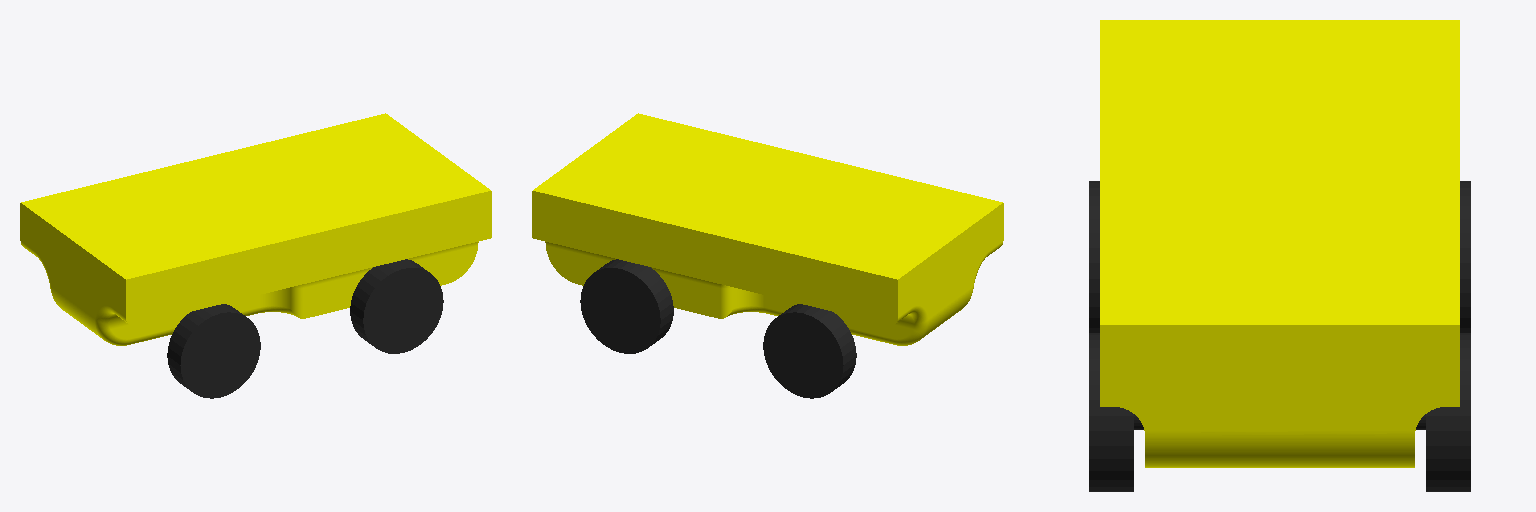
The robot description file, URDF, robot "vitirover":
<?xml version="1.0" ?>
<robot name="vitirover" xmlns:xacro="http://www.ros.org/wiki/xacro">
  <!-- ros_control plugin -->
  <gazebo>
    <plugin name="gazebo_ros_control" filename="libgazebo_ros_control.so">
      <robotNamespace>/vitirover</robotNamespace>
    </plugin>
  </gazebo>
  
  <!-- Wheels -->
  <!-- in kg-->
  <!-- Defining the colors used in this robot -->
  <material name="Black">
    <color rgba="0.0 0.0 0.0 1.0"/>
  </material>
  <material name="Red">
    <color rgba="0.8 0.0 0.0 1.0"/>
  </material>
  <material name="White">
    <color rgba="1.0 1.0 1.0 1.0"/>
  </material>
  <material name="Blue">
    <color rgba="0.0 0.0 0.8 1.0"/>
  </material>
  <material name="DarkGrey">
  <color rgba="0.2 0.2 0.2 1.0"/>
  </material>
  <material name="Yellow">
    <color rgba="1.0 1.0 0.0 1.0"/>
  </material>

  <!-- PROPERTY LIST -->
  <!--All units in m-kg-s-radians unit system -->
  <!-- Wheels -->
  <!-- in kg-->
  <!-- BASE-FOOTPRINT -->
  <!-- base_footprint is a fictitious link(frame) that is on the ground right below base_link origin -->
  <link name="base_footprint"/>
  <gazebo reference="base_footprint">
    <material>Gazebo/DarkGrey</material>
  </gazebo>
  <joint name="base_footprint_joint" type="fixed">
    <origin rpy="0 0 0" xyz="0 0 0.1"/>
    <parent link="base_footprint"/>
    <child link="base_link"/>
  </joint>
  <!-- BASE-LINK -->
  <!--Actual body/chassis of the robot-->
  <link name="base_link">
    <inertial>
      <mass value="25"/>
      <origin  rpy="1.57079632679 3.141592653599265359 1.57079632679" xyz="0 0 0.05"/>
      <!--The 3x3 rotational inertia matrix. -->
      <inertia ixx="1.1927083" ixy="0" ixz="0" iyy="1.427083" iyz="0" izz="0.27604167"/>
    </inertial>
    <visual>
      <origin  rpy="3.14159265359 0.0 4.71238898038" xyz="0 0 0.2"/>
      <geometry>
        <mesh filename="package://mobile_robot/meshes/chassis.stl" scale="10 10 10"/>
      </geometry>
      <material name="Yellow"/>
    </visual>
    <collision>
      <origin  rpy="3.14159265359 0.0 4.71238898038" xyz="0 0 0.15"/>
      <geometry>
        <box size="0.4 0.8 0.1"/>
      </geometry>
    </collision>
  </link>

  <gazebo reference="base_link">
    <material>Gazebo/Yellow</material> <!-- Change material to "Gazebo/Yellow" -->
    <turnGravityOff>false</turnGravityOff>
  </gazebo>

  <!-- FRONT -->
  <!-- Right -->
  <link name="front_right_wheel">
    <inertial>
      <mass value="2.5"/>
      <origin rpy="1.57079632679 0  0 " xyz="0 0 0"/>
      <inertia ixx="0.00536083" ixy="0" ixz="0" iyy="0.00536083" iyz="0" izz="0.009680"/>
    </inertial>
    
    <visual>
      <origin rpy="1.57079632679 0  0 " xyz="0 0 0"/>
      <geometry>
        <cylinder length="0.05" radius="0.088"/>
      </geometry>
      <material name="DarkGrey"/>
    </visual>

    <collision>
      <origin rpy="1.57079632679 0 0 " xyz="0 0 0"/>
      <geometry>
        <cylinder length="0.05" radius="0.088"/>
      </geometry>
      <surface>
        <friction>
          <ode>
            <mu>1.0</mu>
            <mu2>1.0</mu2>
          </ode>
        </friction>
        <contact>
          <ode>
            <soft_cfm>0.01</soft_cfm>   <!-- Soft constraint force mixing -->
            <soft_erp>0.8</soft_erp>     <!-- Error reduction parameter -->
            <kp>1000000.0</kp>           <!-- Contact stiffness -->
            <kd>1.0</kd>                 <!-- Contact damping -->
          </ode>
        </contact>
      </surface>
    </collision>
  </link>

  <gazebo reference="front_right_wheel">
    <mu1 value="1.0"/>
    <mu2 value="1.0"/>
    <kp value="10000000.0"/>
    <kd value="1000.0"/>
    <fdir1 value="1 0 0"/>
    <material>Gazebo/DarkGrey</material>
    <turnGravityOff>false</turnGravityOff>
  </gazebo>

  <joint name="front_right_wheel_joint" type="continuous">
    <parent link="base_link"/>
    <child link="front_right_wheel"/>
    <origin rpy="0 0 0" xyz="0.2 -0.1875 0.0"/>
    <axis rpy="0 0 0" xyz="0 1 0"/>
    <limit effort="100" velocity="100"/>
    <joint_properties  damping="0.3" friction="0.1"/>
  </joint>

  <!-- Transmission is important to link the joints and the controller -->
  <transmission name="front_right_wheel_joint_trans">
    <type>transmission_interface/SimpleTransmission</type>
    <joint name="front_right_wheel_joint">
      <hardwareInterface>hardware_interface/VelocityJointInterface</hardwareInterface>
    </joint>
    <actuator name="front_right_wheel_joint_motor">
      <hardwareInterface>hardware_interface/VelocityJointInterface</hardwareInterface>
      <mechanicalReduction>1</mechanicalReduction>
    </actuator>
  </transmission>


  <!-- Left -->
  <link name="front_left_wheel">
    <inertial>
      <mass value="2.5"/>
      <origin rpy="1.57079632679 0  0 " xyz="0 0 0"/>
      <inertia ixx="0.00536083" ixy="0" ixz="0" iyy="0.00536083" iyz="0" izz="0.009680"/>
    </inertial>
    
    <visual>
      <origin rpy="1.57079632679 0  0 " xyz="0 0 0"/>
      <geometry>
        <cylinder length="0.05" radius="0.088"/>
      </geometry>
      <material name="DarkGrey"/>
    </visual>

    <collision>
      <origin rpy="1.57079632679 0 0 " xyz="0 0 0"/>
      <geometry>
        <cylinder length="0.05" radius="0.088"/>
      </geometry>
      <surface>
        <friction>
          <ode>
            <mu>1.0</mu>
            <mu2>1.0</mu2>
          </ode>
        </friction>
        <contact>
          <ode>
            <soft_cfm>0.01</soft_cfm>   <!-- Soft constraint force mixing -->
            <soft_erp>0.8</soft_erp>     <!-- Error reduction parameter -->
            <kp>1000000.0</kp>           <!-- Contact stiffness -->
            <kd>1.0</kd>                 <!-- Contact damping -->
          </ode>
        </contact>
      </surface>
    </collision>
  </link>

  <gazebo reference="front_left_wheel">
    <mu1 value="1.0"/>
    <mu2 value="1.0"/>
    <kp value="10000000.0"/>
    <kd value="1000.0"/>
    <fdir1 value="1 0 0"/>
    <material>Gazebo/DarkGrey</material>
    <turnGravityOff>false</turnGravityOff>
  </gazebo>

  <joint name="front_left_wheel_joint" type="continuous">
    <parent link="base_link"/>
    <child link="front_left_wheel"/>
    <origin rpy="0 0 0" xyz="0.2 0.1875 0.0"/>
    <axis rpy="0 0 0" xyz="0 1 0"/>
    <limit effort="100" velocity="100"/>
    <joint_properties  damping="0.3" friction="0.1"/>
  </joint>
  <!-- Transmission is important to link the joints and the controller -->
  <transmission name="front_left_wheel_joint_trans">
    <type>transmission_interface/SimpleTransmission</type>
    <joint name="front_left_wheel_joint">
      <hardwareInterface>hardware_interface/VelocityJointInterface</hardwareInterface>
    </joint>
    <actuator name="front_left_wheel_joint_motor">
      <hardwareInterface>hardware_interface/VelocityJointInterface</hardwareInterface>
      <mechanicalReduction>1</mechanicalReduction>
    </actuator>
  </transmission>

  <!-- REAR -->
  <!-- Right -->
  <link name="rear_right_wheel">
    <inertial>
      <mass value="2.5"/>
      <origin rpy="1.57079632679 0  0 " xyz="0 0 0"/>
      <inertia ixx="0.00536083" ixy="0" ixz="0" iyy="0.00536083" iyz="0" izz="0.009680"/>
    </inertial>
    
    <visual>
      <origin rpy="1.57079632679 0  0 " xyz="0 0 0"/>
      <geometry>
        <cylinder length="0.05" radius="0.088"/>
      </geometry>
      <material name="DarkGrey"/>
    </visual>

    <collision>
      <origin rpy="1.57079632679 0 0 " xyz="0 0 0"/>
      <geometry>
        <cylinder length="0.05" radius="0.088"/>
      </geometry>
      <surface>
        <friction>
          <ode>
            <mu>1.0</mu>
            <mu2>1.0</mu2>
          </ode>
        </friction>
        <contact>
          <ode>
            <soft_cfm>0.01</soft_cfm>   <!-- Soft constraint force mixing -->
            <soft_erp>0.8</soft_erp>     <!-- Error reduction parameter -->
            <kp>1000000.0</kp>           <!-- Contact stiffness -->
            <kd>1.0</kd>                 <!-- Contact damping -->
          </ode>
        </contact>
      </surface>
    </collision>
  </link>

  <gazebo reference="rear_right_wheel">
    <mu1 value="1.0"/>
    <mu2 value="1.0"/>
    <kp value="10000000.0"/>
    <kd value="1000.0"/>
    <fdir1 value="1 0 0"/>
    <material>Gazebo/DarkGrey</material>
    <turnGravityOff>false</turnGravityOff>
  </gazebo>

  <!-- Left -->
  <link name="rear_left_wheel">
    <inertial>
      <mass value="2.5"/>
      <origin rpy="1.57079632679 0  0 " xyz="0 0 0"/>
      <inertia ixx="0.00536083" ixy="0" ixz="0" iyy="0.00536083" iyz="0" izz="0.009680"/>
    </inertial>
    
    <visual>
      <origin rpy="1.57079632679 0  0 " xyz="0 0 0"/>
      <geometry>
        <cylinder length="0.05" radius="0.088"/>
      </geometry>
      <material name="DarkGrey"/>
    </visual>

    <collision>
      <origin rpy="1.57079632679 0 0 " xyz="0 0 0"/>
      <geometry>
        <cylinder length="0.05" radius="0.088"/>
      </geometry>
      <surface>
        <friction>
          <ode>
            <mu>1.0</mu>
            <mu2>1.0</mu2>
          </ode>
        </friction>
        <contact>
          <ode>
            <soft_cfm>0.01</soft_cfm>   <!-- Soft constraint force mixing -->
            <soft_erp>0.8</soft_erp>     <!-- Error reduction parameter -->
            <kp>1000000.0</kp>           <!-- Contact stiffness -->
            <kd>1.0</kd>                 <!-- Contact damping -->
          </ode>
        </contact>
      </surface>
    </collision>
  </link>

  <gazebo reference="rear_left_wheel">
    <mu1 value="1.0"/>
    <mu2 value="1.0"/>
    <kp value="10000000.0"/>
    <kd value="1000.0"/>
    <fdir1 value="1 0 0"/>
    <material>Gazebo/DarkGrey</material>
    <turnGravityOff>false</turnGravityOff>
  </gazebo>

<!-- FRONT AXLE -->
<link name="front_axle">
  <visual>
    <origin rpy="0 0 0" xyz="0 0 0"/>
    <geometry>
      <cylinder length="0.35" radius="0.02"/>
    </geometry>
    <material name="DarkGrey"/>
  </visual>

  <collision>
    <origin rpy="0 0 0" xyz="0 0 0"/>
    <geometry>
      <cylinder length="0.35" radius="0.02"/>
    </geometry>
    <surface>
        <friction>
          <ode>
            <mu>1.0</mu>
            <mu2>1.0</mu2>
          </ode>
        </friction>
    </surface>
  </collision>

  <inertial>
    <mass value="1"/>
    <origin rpy="0 0 0" xyz="0 0 0"/>
    <inertia ixx="0.0134" ixy="0.0" ixz="0.0" iyy="0.0134" iyz="0.0" izz="0.0002"/>
  </inertial>
</link>

<!-- FRONT AXLE JOINT -->
<joint name="front_axle_joint" type="fixed">
  <origin rpy="4.7124 0 0" xyz="0.2 0 0"/>
  <axis xyz="0 1 0" rpy="0 0 0" /> 
  <parent link="base_link"/>
  <child link="front_axle"/>
</joint>


<!-- REAR AXLE -->
<link name="rear_axle">
  <visual>
    <origin rpy="0 0 0" xyz="0 0 0"/>
    <geometry>
      <cylinder length="0.35" radius="0.02"/>
    </geometry>
    <material name="DarkGrey"/>
  </visual>

  <collision>
    <origin rpy="0 0 0" xyz="0 0 0"/>
    <geometry>
      <cylinder length="0.35" radius="0.02"/>
    </geometry>
    <surface>
        <friction>
          <ode>
            <mu>1.0</mu>
            <mu2>1.0</mu2>
          </ode>
        </friction>
    </surface>
  </collision>

  <inertial>
    <mass value="1"/>
    <origin rpy="0 0 0" xyz="0 0 0"/>
    <inertia ixx="0.0103083" ixy="0.0" ixz="0.0" iyy="0.0103083" iyz="0.0" izz="0.0002"/>
  </inertial>
</link>

<!-- REAR AXLE JOINT -->
<joint name="rear_axle_joint" type="revolute">
  <origin rpy="4.7124 0 0" xyz="-0.2 0 0"/>
  <axis xyz="0 1 0" rpy="0 0 0" /> 
  <parent link="base_link"/>
  <child link="rear_axle"/>
  <limit effort="100" velocity="100" lower="-0.3142" upper="0.3142"/> <!-- radians -->
  <joint_properties damping="0.5" friction="0.1"/>
</joint>


<!-- Transmission is important to link the joints and the controller -->
<transmission name="rear_axle_joint_trans">
  <type>transmission_interface/SimpleTransmission</type>
  <joint name="rear_axle_joint">
    <hardwareInterface>hardware_interface/EffortJointInterface</hardwareInterface>
  </joint>
  <actuator name="rear_axle_joint_motor">
    <hardwareInterface>hardware_interface/EffortJointInterface</hardwareInterface>
    <mechanicalReduction>1</mechanicalReduction>
  </actuator>
</transmission>

<!-- REAR WHEELS LINKING TO AXLE -->

  <joint name="rear_left_wheel_axle_joint" type="continuous">
    <parent link="rear_axle"/>
    <child link="rear_left_wheel"/>
    <origin rpy="1.570796 0 0" xyz="0 0 0.1875"/>
    <axis rpy="0 0 0" xyz="0 1 0"/>
    <limit effort="100" velocity="100"/>
    <joint_properties  damping="0.3" friction="0.1"/>
  </joint>

<!-- Transmission is important to link the joints and the controller -->
<transmission name="rear_left_wheel_joint_trans">
  <type>transmission_interface/SimpleTransmission</type>
  <joint name="rear_left_wheel_axle_joint">
    <hardwareInterface>hardware_interface/VelocityJointInterface</hardwareInterface>
  </joint>
  <actuator name="rear_left_wheel_joint_motor">
    <hardwareInterface>hardware_interface/VelocityJointInterface</hardwareInterface>
    <mechanicalReduction>1</mechanicalReduction>
  </actuator>
</transmission>

  <joint name="rear_right_wheel_axle_joint" type="continuous">
    <parent link="rear_axle"/>
    <child link="rear_right_wheel"/>
    <origin rpy="1.570796 0 0" xyz="0 0 -0.1875"/>
    <axis rpy="0 0 0" xyz="0 1 0"/>
    <limit effort="100" velocity="100"/>
    <joint_properties  damping="0.3" friction="0.1"/>
  </joint>

<!-- Transmission is important to link the joints and the controller -->
<transmission name="rear_right_wheel_joint_trans">
  <type>transmission_interface/SimpleTransmission</type>
  <joint name="rear_right_wheel_axle_joint">
    <hardwareInterface>hardware_interface/VelocityJointInterface</hardwareInterface>
  </joint>
  <actuator name="rear_right_wheel_joint_motor">
    <hardwareInterface>hardware_interface/VelocityJointInterface</hardwareInterface>
    <mechanicalReduction>1</mechanicalReduction>
  </actuator>
</transmission>

</robot>

--- Render facts (derived) ---
3 views of the same robot in one strip: view 1: azimuth 30°, elevation 25°; view 2: azimuth 150°, elevation 25°; view 3: azimuth 270°, elevation 25° (orthographic).
Model vitirover with 8 links and 7 joints (1 revolute, 4 continuous, 2 fixed), rooted at base_footprint, posed all joints at 0.
Visible links, largest first — view 1: base_link, front_right_wheel, rear_right_wheel; view 2: base_link, front_left_wheel, rear_left_wheel; view 3: base_link, front_right_wheel, front_left_wheel, rear_right_wheel, rear_left_wheel.
Boxes of the visible links, x1,y1,x2,y2 form: base_link: [20, 113, 491, 345]; front_right_wheel: [350, 259, 443, 353]; rear_right_wheel: [167, 304, 260, 398]; base_link: [532, 113, 1003, 345]; front_left_wheel: [580, 259, 673, 353]; rear_left_wheel: [763, 304, 856, 398]; base_link: [1100, 20, 1459, 467]; front_right_wheel: [1089, 333, 1133, 491]; front_left_wheel: [1426, 333, 1470, 491]; rear_right_wheel: [1089, 181, 1099, 332]; rear_left_wheel: [1460, 181, 1470, 332].
Size in the robot's own frame: 0.8 by 0.425 by 0.288 metres.
Meshes: 1 distinct files referenced, 1 mesh visuals loaded (1 binary STL).